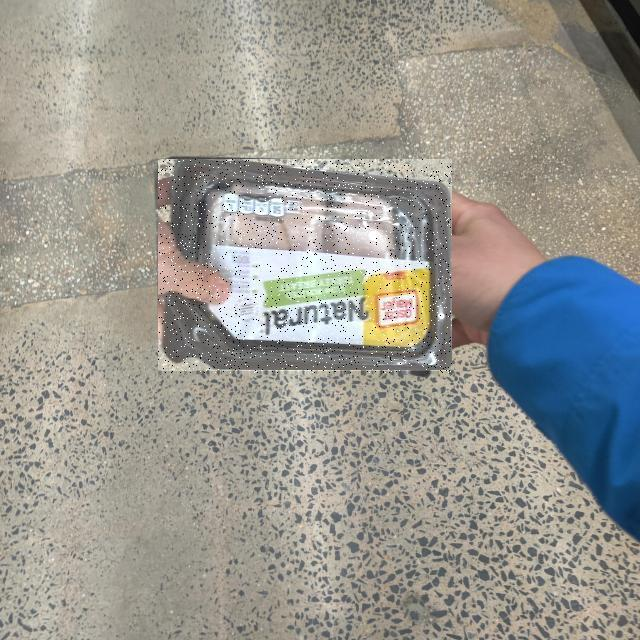Meat: (159, 160, 453, 374)
